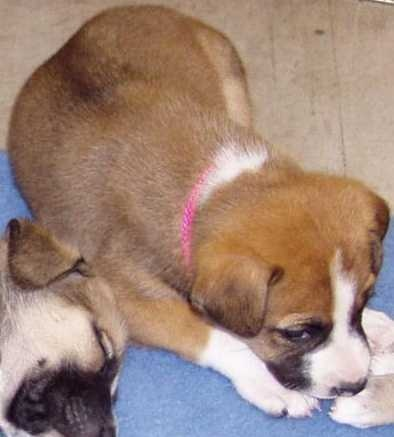dog: (0, 0, 376, 413)
